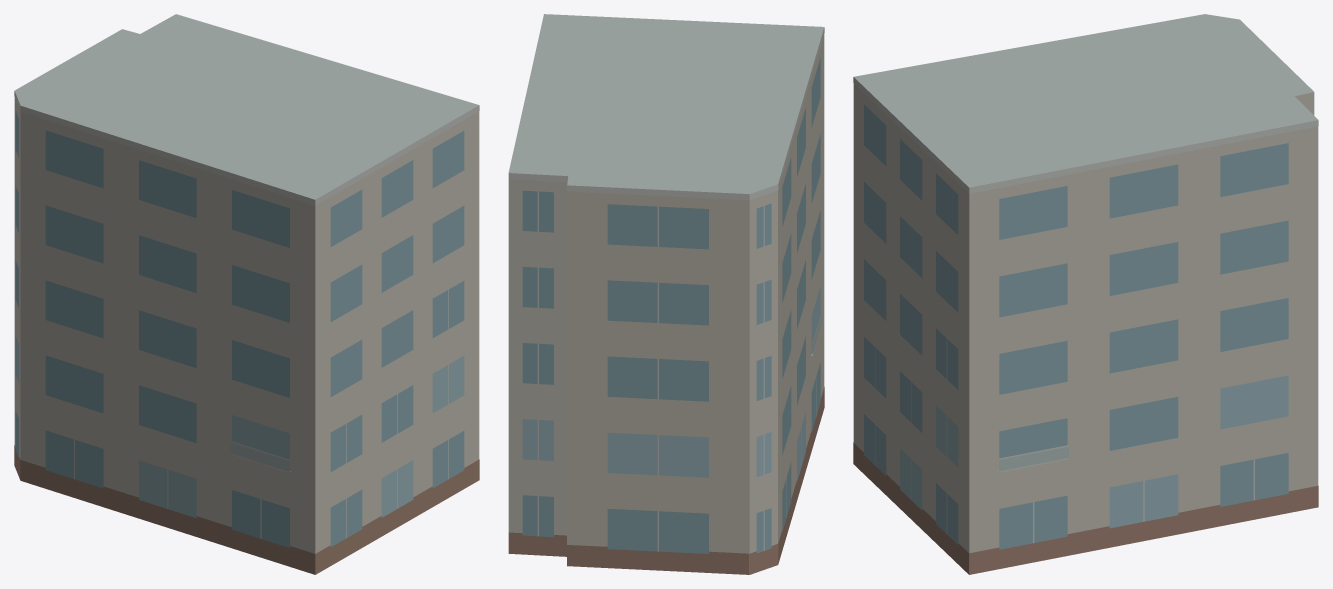
File: survey-upis-32758411.glb
3 renders of one model, left to right at view 1: azimuth 30°, elevation 25°; view 2: azimuth 150°, elevation 25°; view 3: azimuth 270°, elevation 25°, orthographic. The views are drawn at different scales.
Visible parts, largest first — view 1: survey-upis-32758411.tmp; view 2: survey-upis-32758411.tmp; view 3: survey-upis-32758411.tmp.
Part boxes in pixels (bbox=[...]): survey-upis-32758411.tmp: bbox=[14, 14, 479, 574]; survey-upis-32758411.tmp: bbox=[508, 14, 824, 574]; survey-upis-32758411.tmp: bbox=[853, 14, 1318, 574].
Size of the model in its own units: 14.68 by 15.25 by 16.61.
